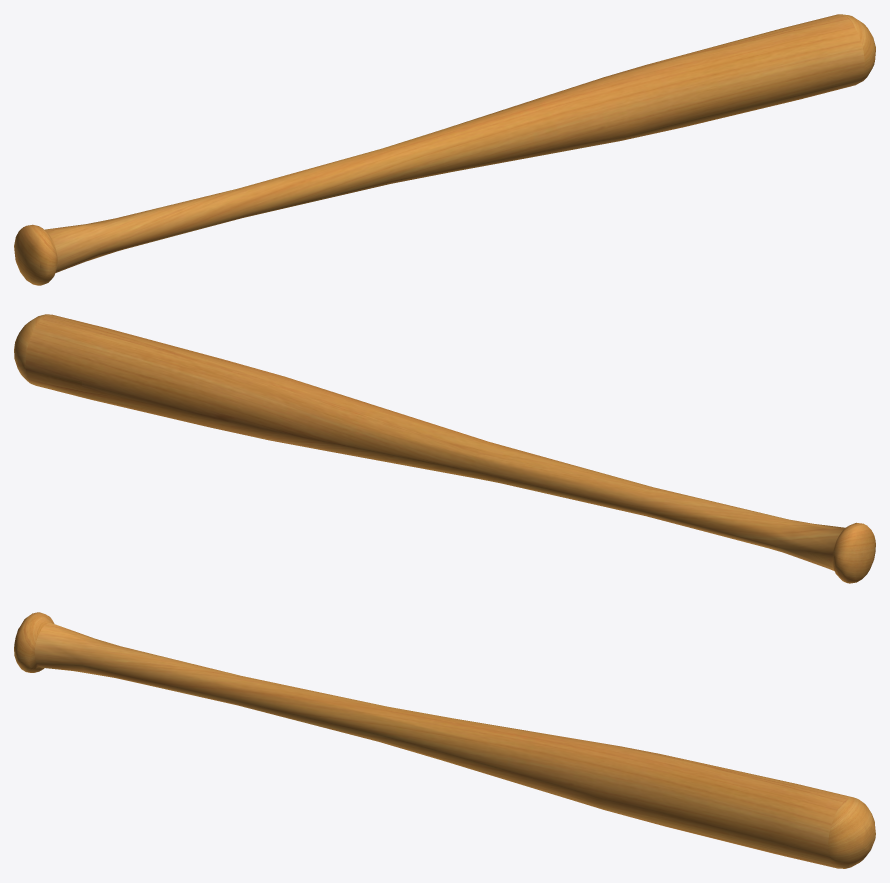
The model's file is Baseball bat.FBX.
The picture shows the model from 3 angles, top to bottom: view 1: azimuth 30°, elevation 25°; view 2: azimuth 150°, elevation 25°; view 3: azimuth 330°, elevation 25°; orthographic projection.
Parts seen in each view (by area): view 1: Baseball bat; view 2: Baseball bat; view 3: Baseball bat.
Boxes of the visible parts, <box> form: Baseball bat: <box>14,14,875,285</box>; Baseball bat: <box>14,314,875,583</box>; Baseball bat: <box>14,612,875,868</box>.
Bounding box in the file's own units: 59.11 × 4.48 × 4.42.
1 material, 1 textured.
